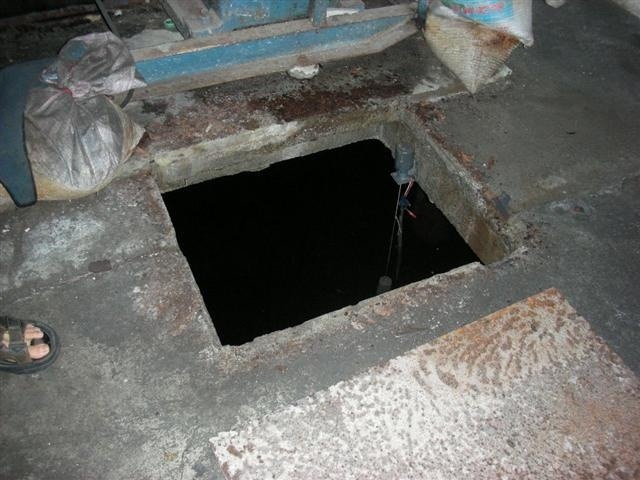plastic_bag: (23, 36, 127, 197)
